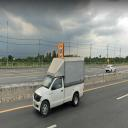speed_limit_120: (58, 44, 63, 56)
